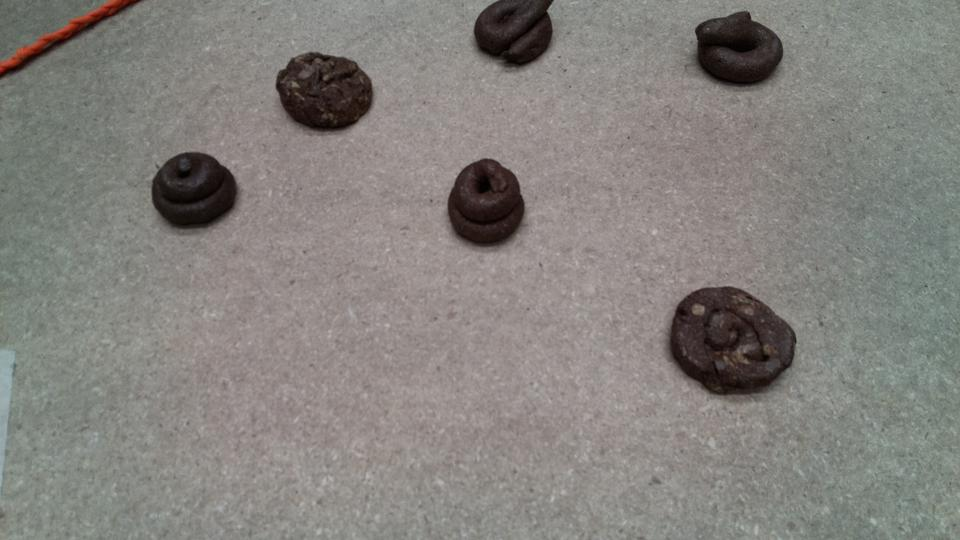poop: (669, 278, 809, 410), (274, 49, 376, 140), (440, 154, 532, 253), (143, 147, 249, 231), (693, 12, 787, 93), (470, 2, 567, 73)
